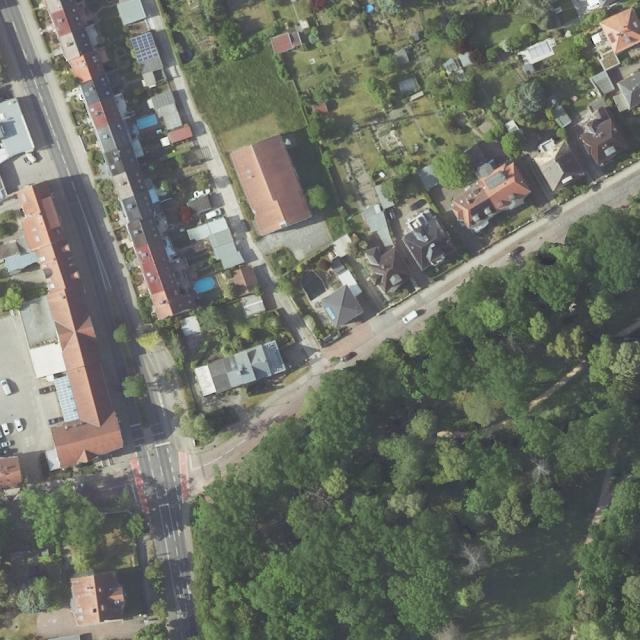PV: (51, 375, 78, 424), (130, 32, 159, 64), (325, 306, 337, 320)
ST: (607, 32, 616, 44)
